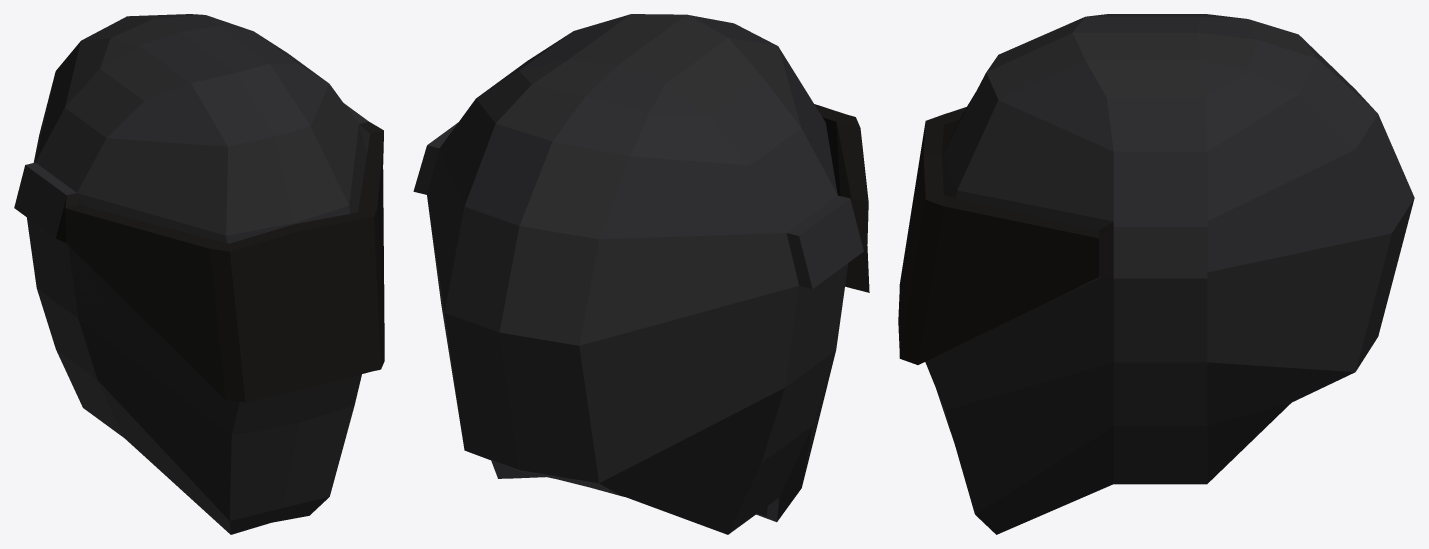
File: snake eyes helmet.fbx
3 renders of one model, left to right at view 1: azimuth 30°, elevation 25°; view 2: azimuth 150°, elevation 25°; view 3: azimuth 270°, elevation 25°, orthographic. The views are drawn at different scales.
Parts seen in each view (by area): view 1: Cube.001; view 2: Cube.001; view 3: Cube.001.
Part boxes in pixels (x1,y1,x2,y2): Cube.001: (14, 14, 384, 534); Cube.001: (413, 14, 869, 534); Cube.001: (898, 14, 1414, 534).
Size of the model in its own units: 8.67 by 10.92 by 10.63.
1 material, 1 textured.
